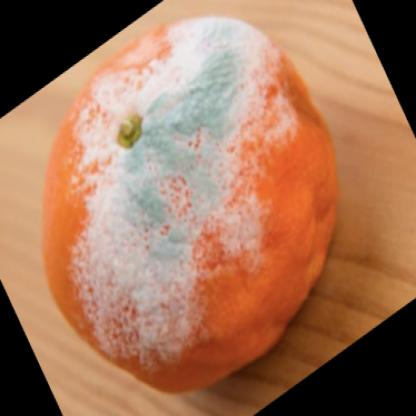rotten: (45, 20, 338, 395)
